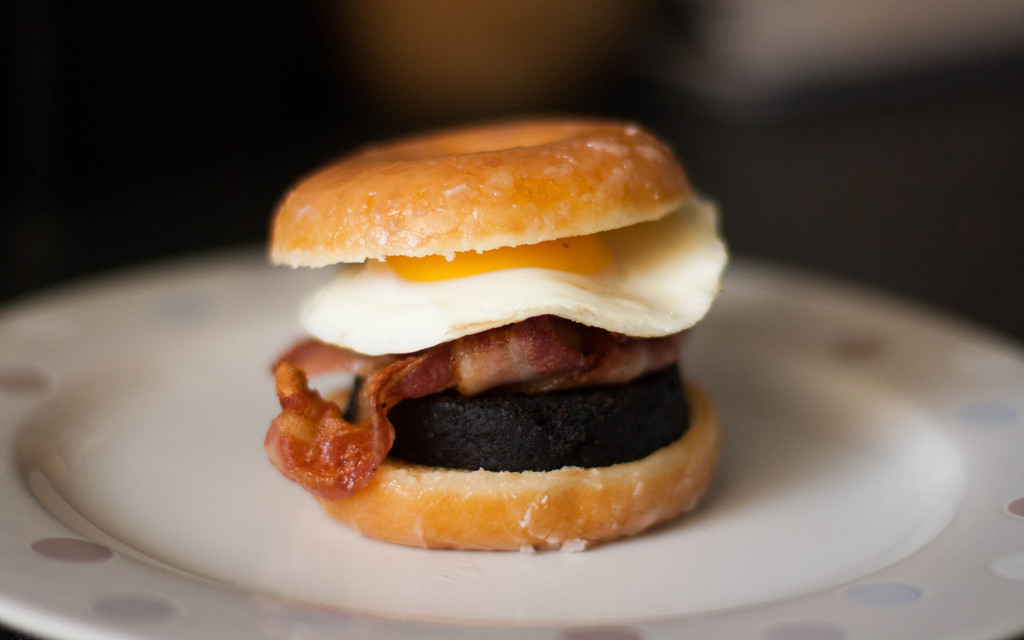Hamburger: (258, 120, 732, 551)
